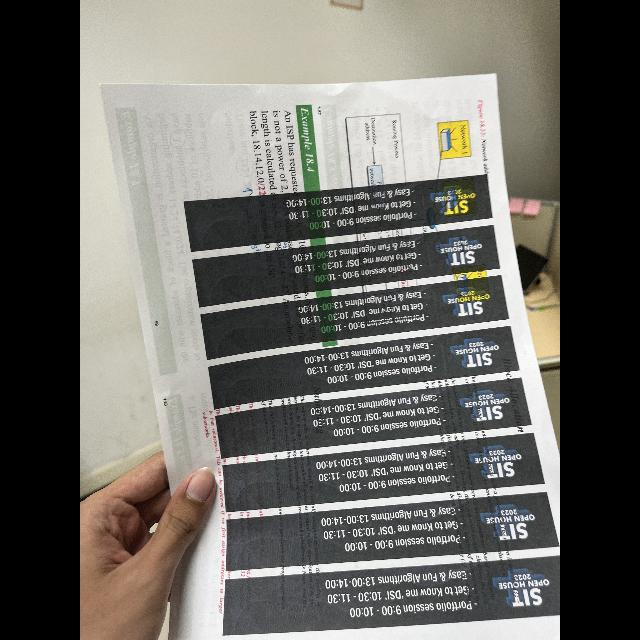reuseable_paper: (134, 75, 500, 640)
